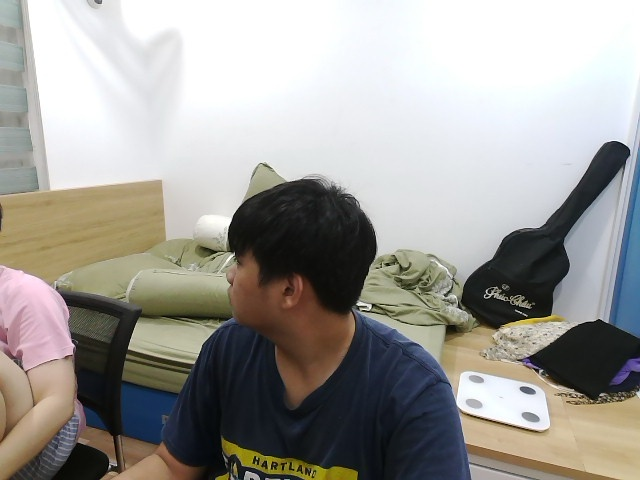face: (225, 179, 378, 327)
